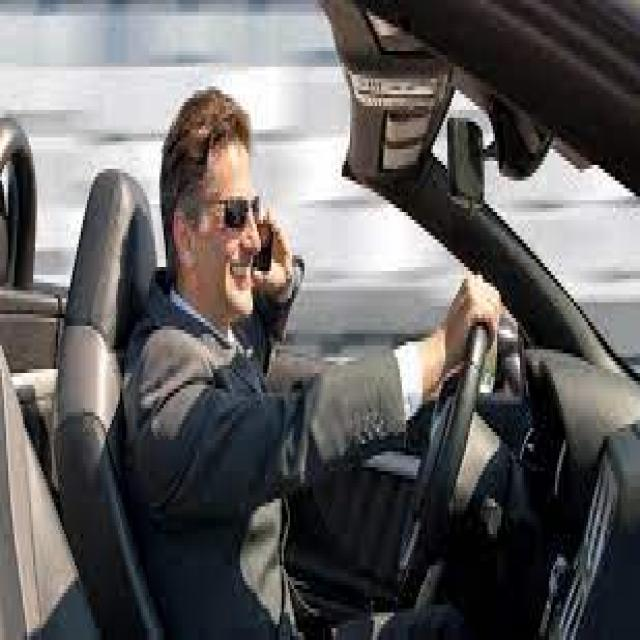using_phone: (178, 139, 308, 338)
